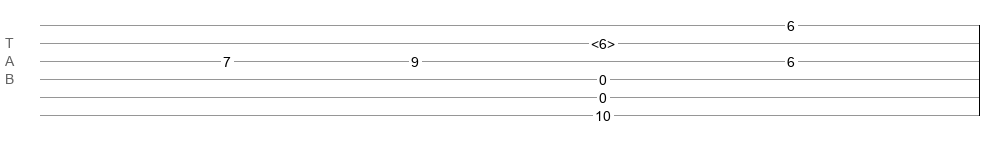0: (599, 90, 607, 100), (599, 72, 607, 82)
10: (595, 108, 611, 118)
6: (787, 54, 795, 64), (787, 18, 795, 28)
7: (223, 54, 231, 64)
9: (411, 54, 419, 64)
harmonic: (591, 36, 615, 46)
